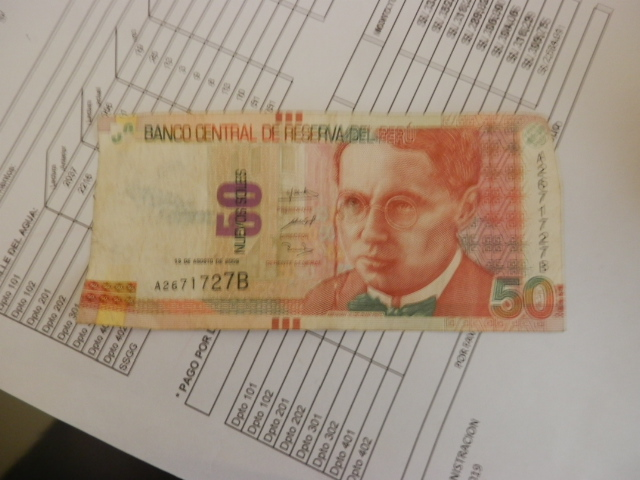B50: (93, 114, 568, 336)
